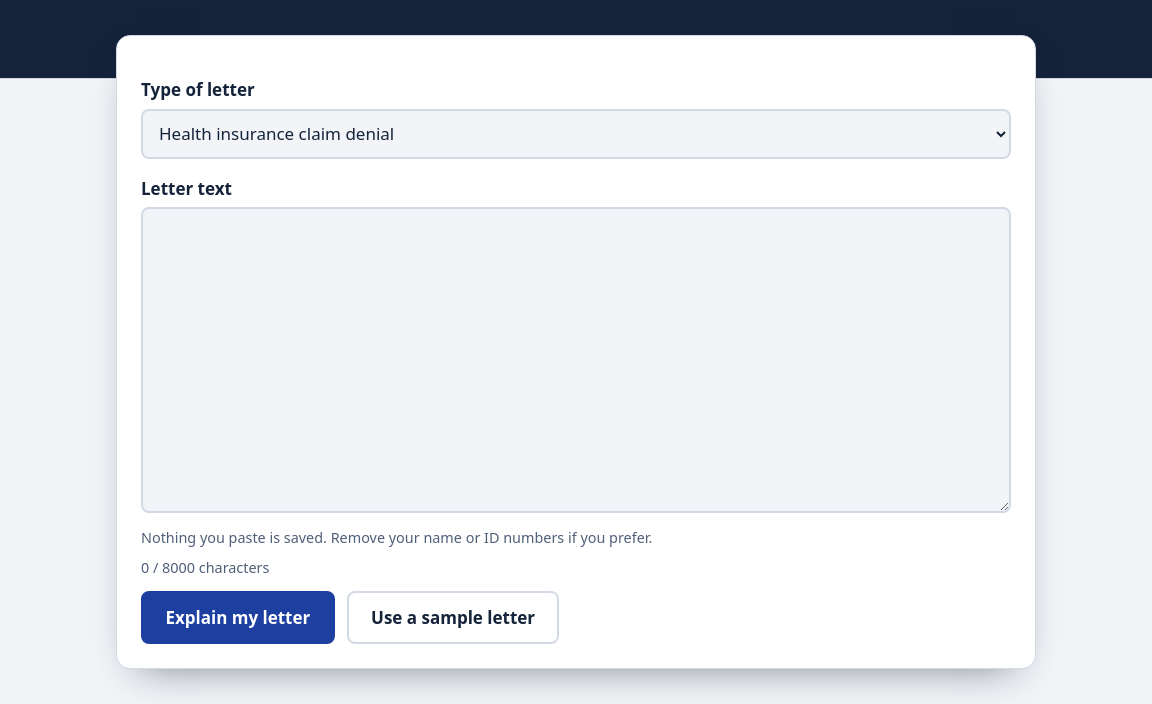
Test: App › flags quotes that are not in the letter
This screenshot has width=1152, height=704.
(page scrolled)
Type "Your claim was denied because the MRI was not medically necessary. Appeal by 2099-12-31." into the text box labelled "Letter text" at point(576, 360), box [141, 207, 1011, 513]
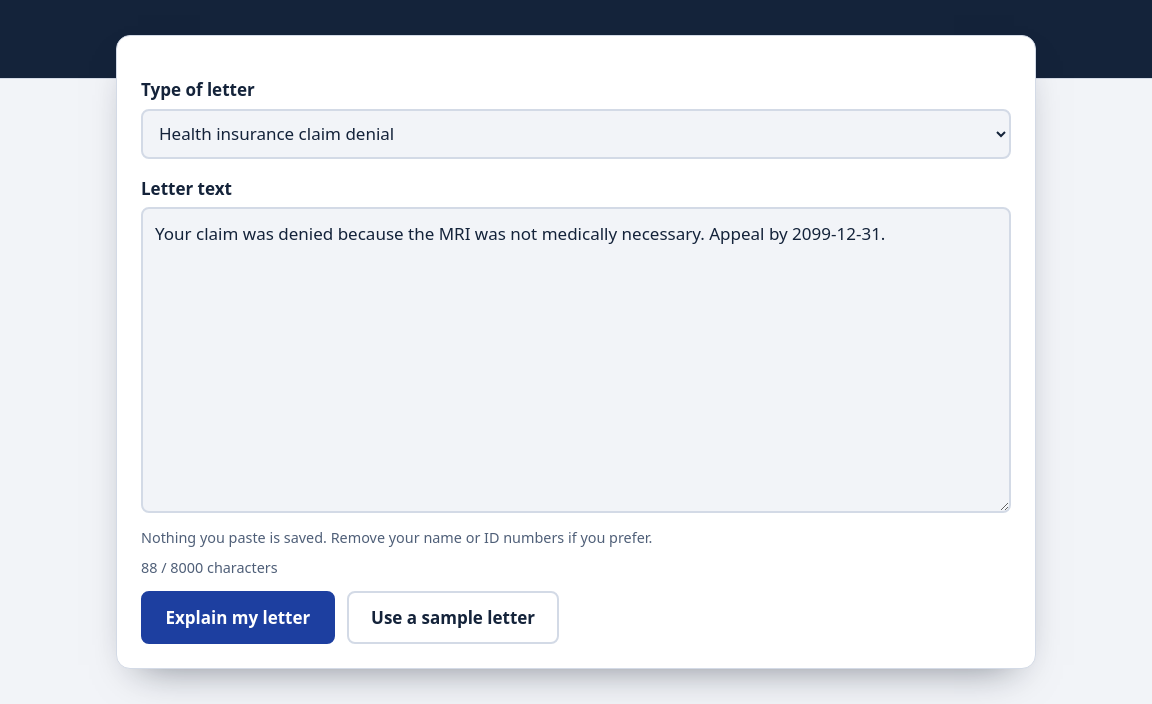
Click the button "Explain my letter" at point(238, 618), box [141, 591, 335, 644]
(page scrolled)
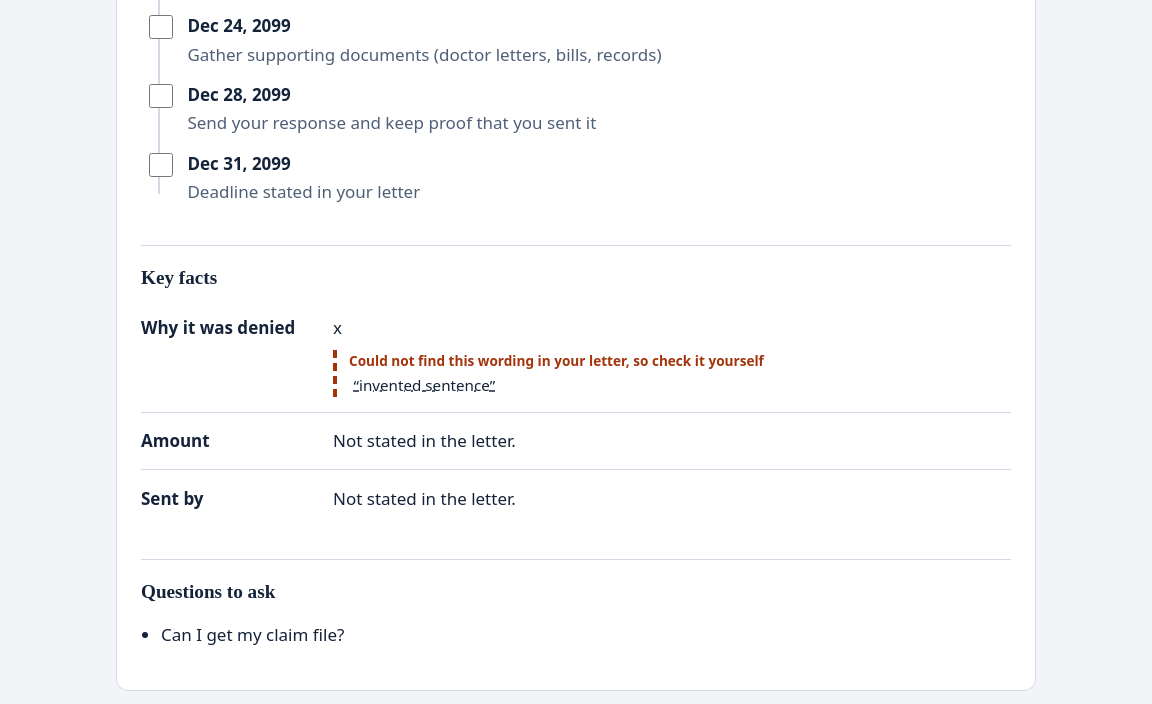
Now the text "Could not find this wording" is shown, box [349, 351, 764, 370]
